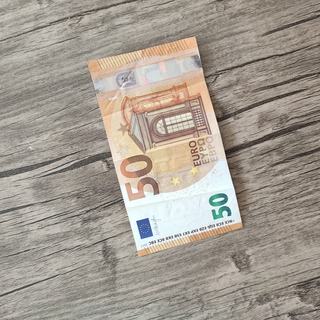50EUROFront: (85, 35, 245, 259)
